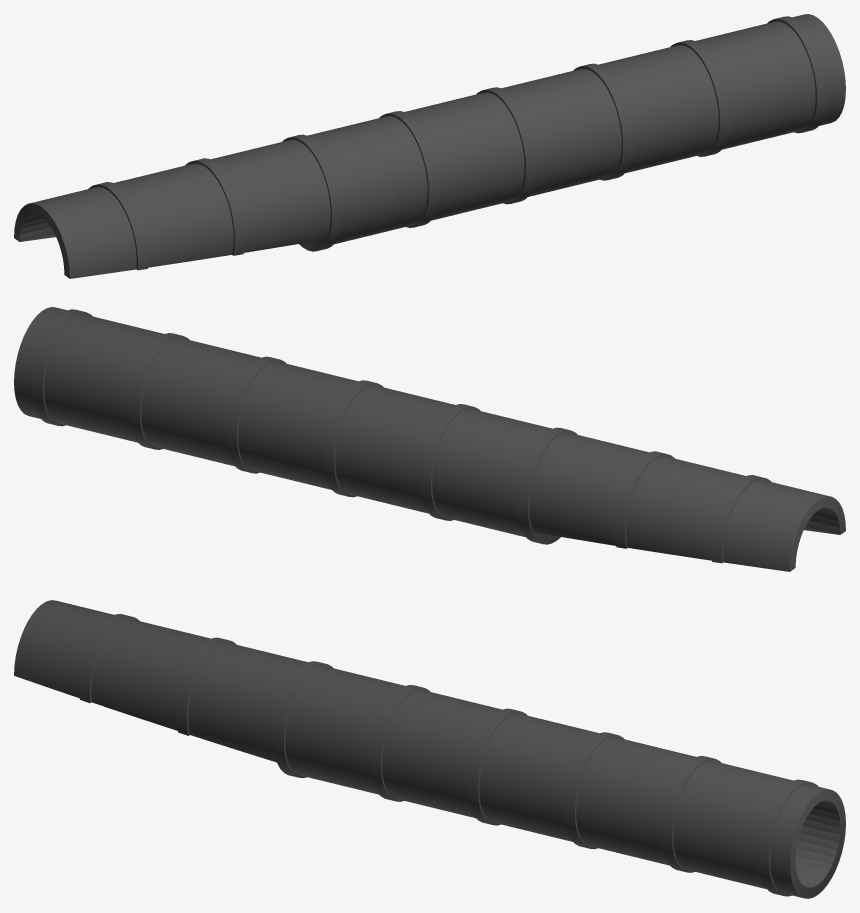
Rendered from TorpedoLauncher.obj.
3 renders of one model, top to bottom at view 1: azimuth 30°, elevation 25°; view 2: azimuth 150°, elevation 25°; view 3: azimuth 330°, elevation 25°, orthographic.
Visible parts, largest first — view 1: TorpedoLauncher.001; view 2: TorpedoLauncher.001; view 3: TorpedoLauncher.001.
Part boxes in pixels (x1,y1,x2,y2): TorpedoLauncher.001: (14,14,845,278); TorpedoLauncher.001: (14,307,845,571); TorpedoLauncher.001: (14,600,845,898).
Bounding box in the file's own units: 1.2 × 0.157 × 0.157.
1 material, 1 textured.
